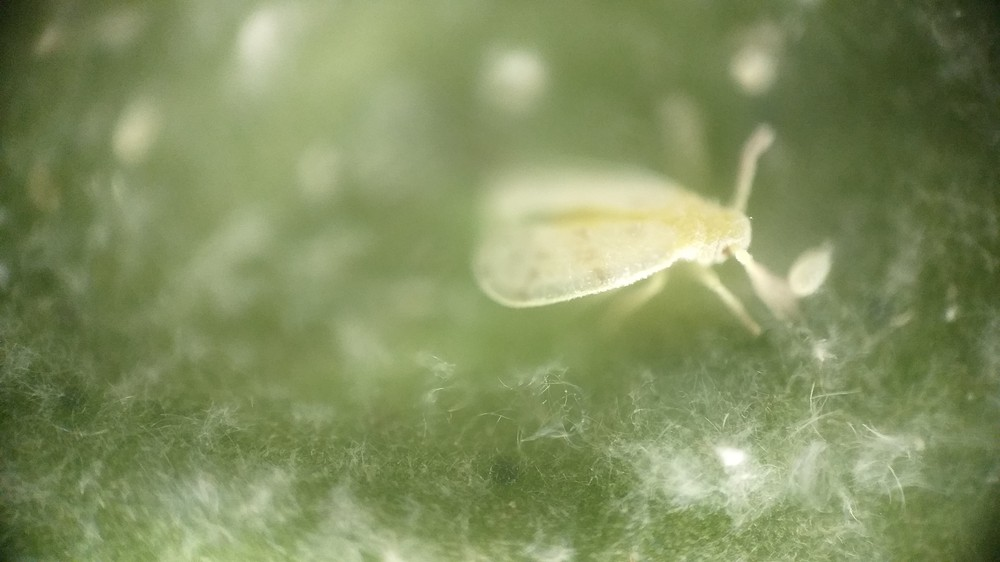Mosca Blanca: (467, 128, 820, 373)
